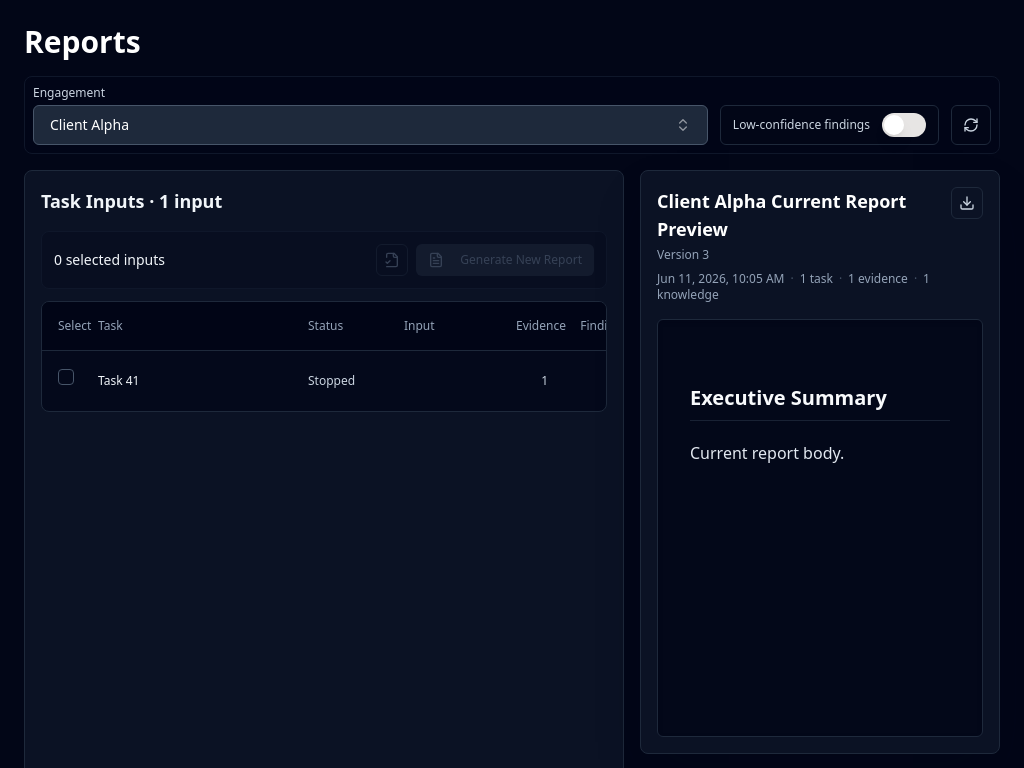
Test case: <EngagementReportingWorkspace /> › keeps viewer reporting controls read-only
Expected: the text "Task 41" is shown, [98,372,140,388]
Click the checkbox named "Select Task 41" at {"x": 66, "y": 377}, box [58,369,74,385]
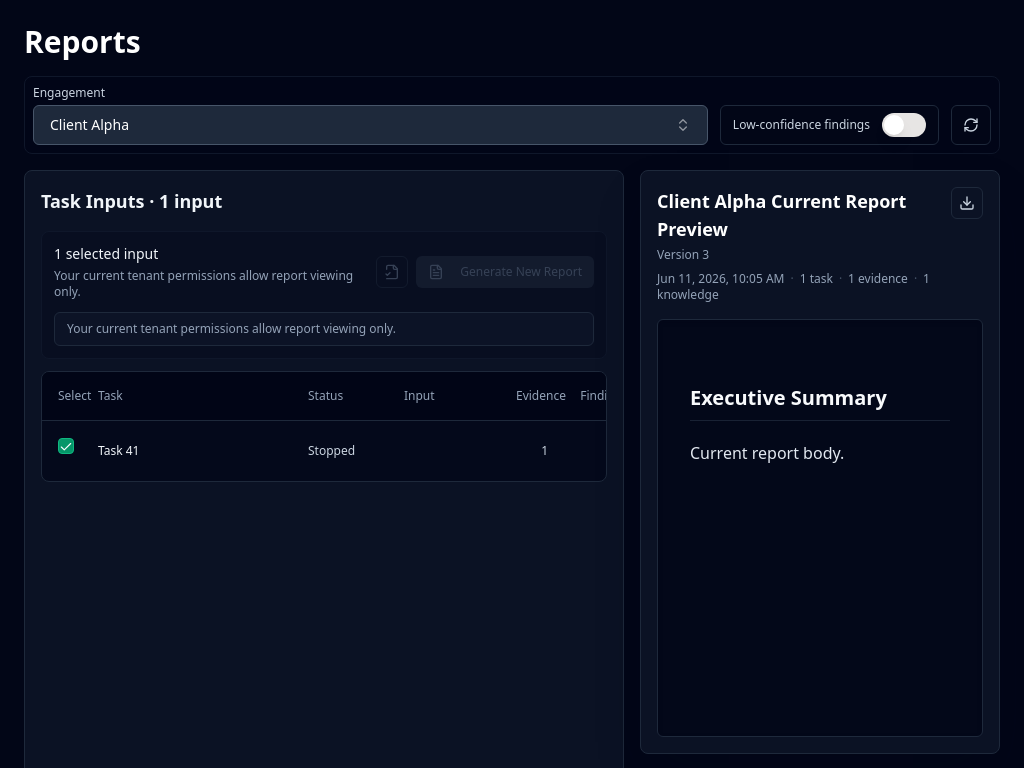
Expected: the button "Generate New Report" is disabled, [416,256,594,288]
Expected: the text "Your current tenant permissions allow report viewing only." is shown 2 times, [54,268,364,300]; [54,312,594,346]
